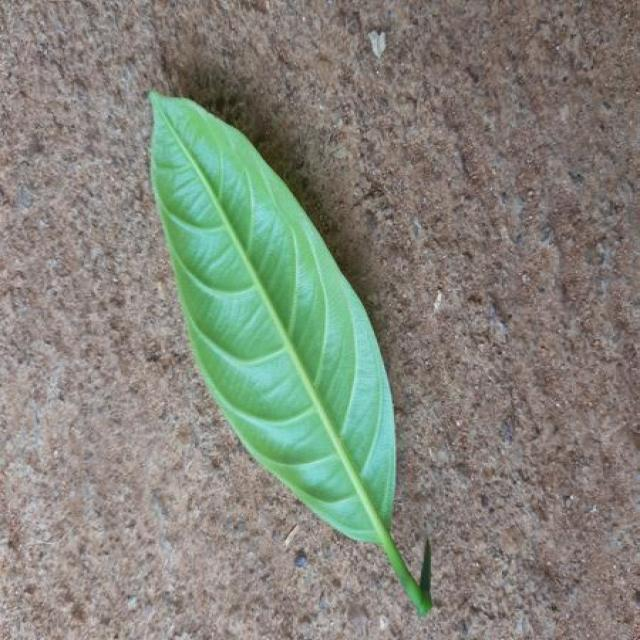Jackfruit: (151, 92, 432, 613)
